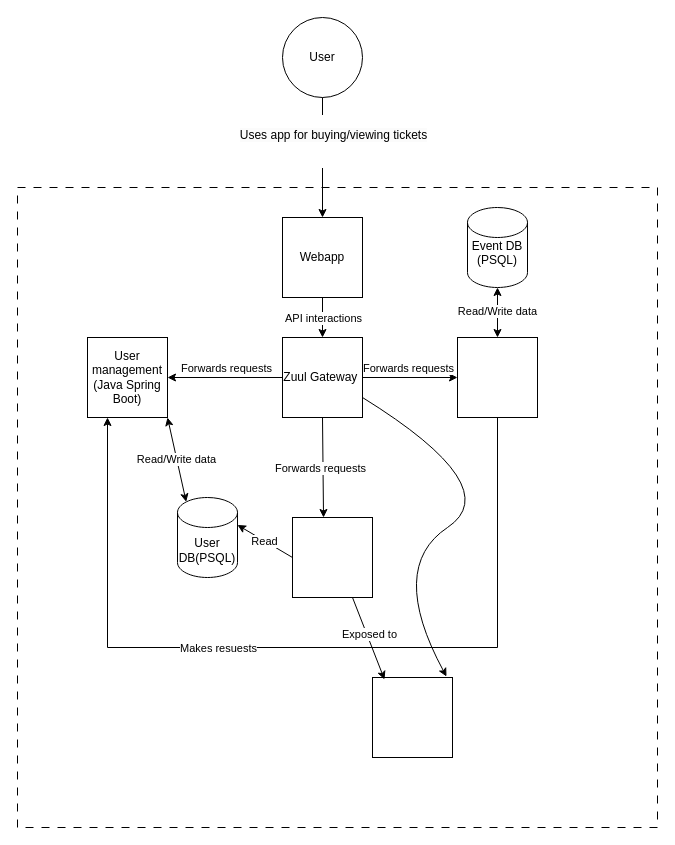
The diagram is 675 pixels wide and 845 high, and some of its shapes have lost their labels. Here are the shapes that lost their labels. From the top down, the centre of each, then its label:
At (497,377): "Event management (Java Spring Boot)".
At (332,557): "Chat microservice (Java Spring Boot)".
At (412,717): "Eureka Srever (REST based communication)".
